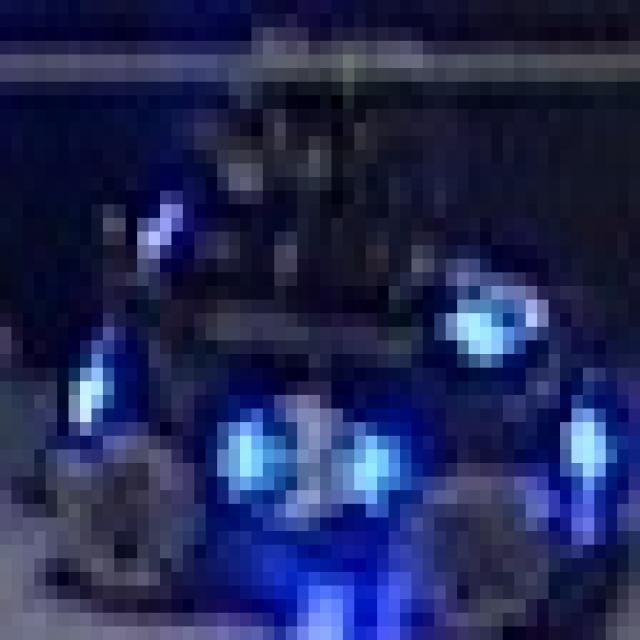B3: (206, 340, 423, 518)
